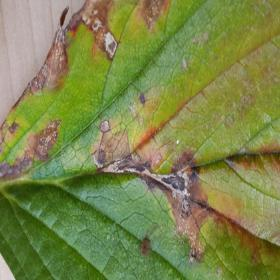Angular Leafspot: (0, 0, 279, 279)
